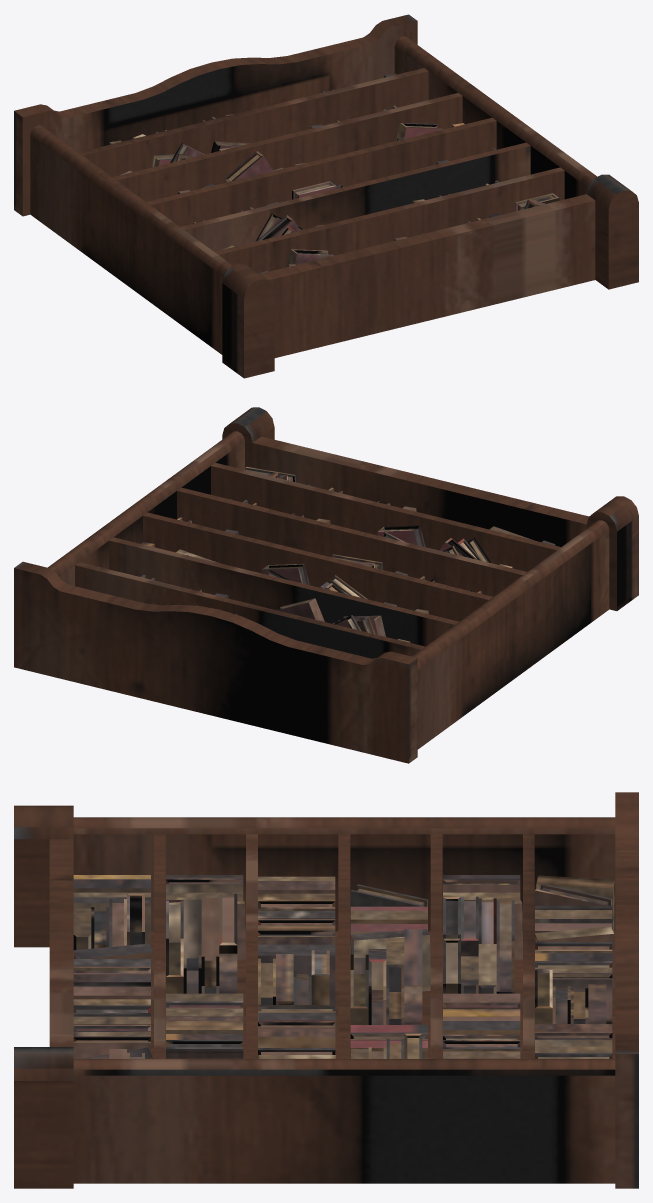
Rendered from EditedBookshelf.glb.
3 views of the same model, one above another, from view 1: azimuth 30°, elevation 25°; view 2: azimuth 150°, elevation 25°; view 3: azimuth 270°, elevation 25° (orthographic). The views are drawn at different scales.
Parts seen in each view (by area): view 1: Cylinder005; view 2: Cylinder005; view 3: Cylinder005.
Boxes of the visible parts, x1,y1,x2,y2 form: Cylinder005: [14, 14, 638, 378]; Cylinder005: [14, 407, 638, 763]; Cylinder005: [14, 792, 638, 1188].
Bounding box in the file's own units: 208 × 50 × 210.
Materials: 1 (1 with a texture image).
